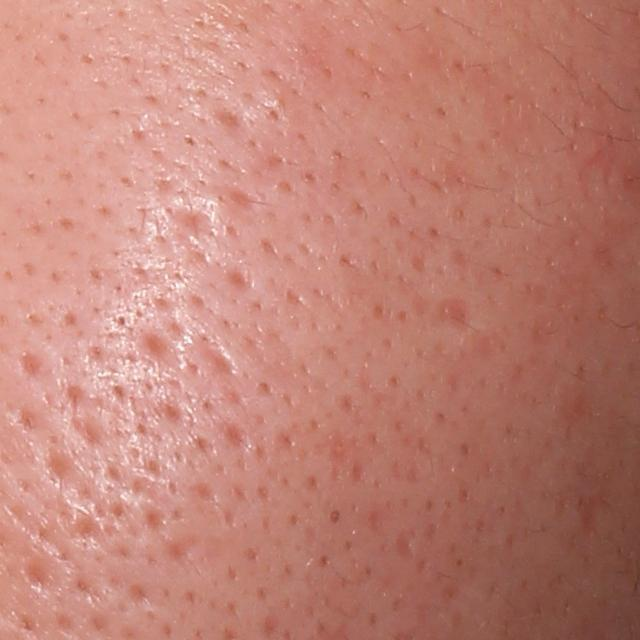atrophic_scar: (192, 332, 246, 388), (161, 202, 221, 246), (432, 293, 481, 337), (131, 321, 179, 364), (74, 408, 117, 453), (22, 557, 62, 600), (217, 417, 253, 453), (219, 260, 258, 288)
